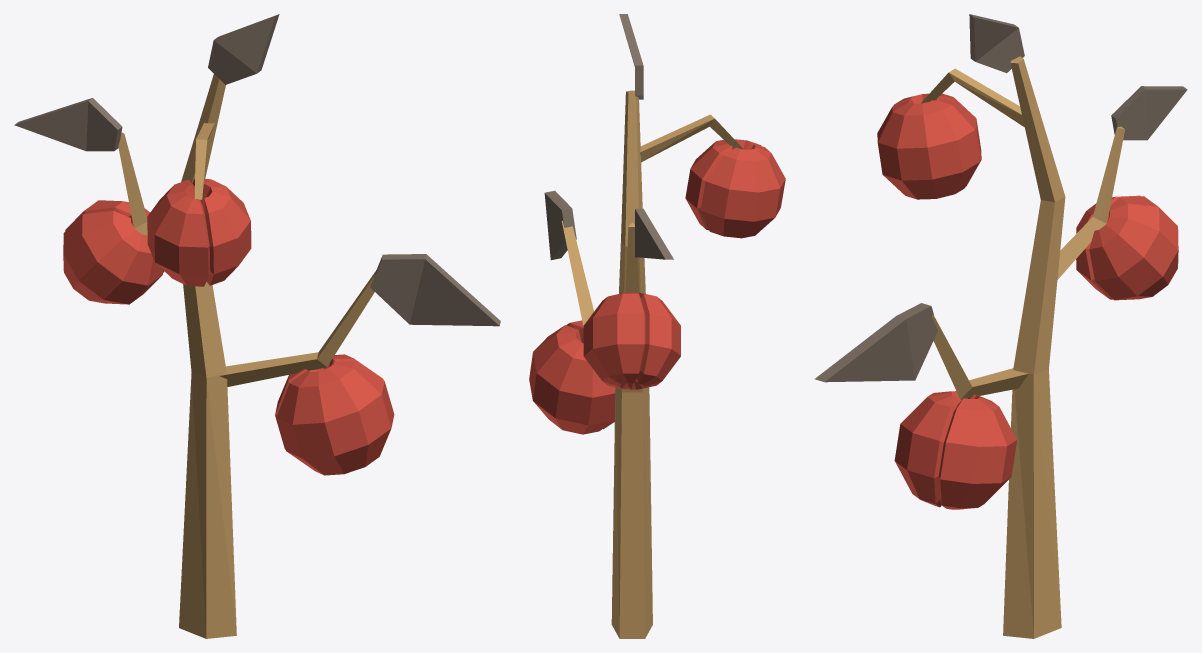
Rendered from plants_d.gltf.
The picture shows the model from 3 angles, left to right: view 1: azimuth 30°, elevation 25°; view 2: azimuth 150°, elevation 25°; view 3: azimuth 270°, elevation 25°; orthographic projection. The views are drawn at different scales.
Visible parts, largest first — view 1: plants_d001; view 2: plants_d001; view 3: plants_d001.
Part boxes in pixels (<box>): plants_d001: <box>14,14,500,638</box>; plants_d001: <box>529,14,785,638</box>; plants_d001: <box>814,14,1187,638</box>.
Size of the model in its own units: 0.4125 by 0.7965 by 0.4262.
1 material, 1 textured.
